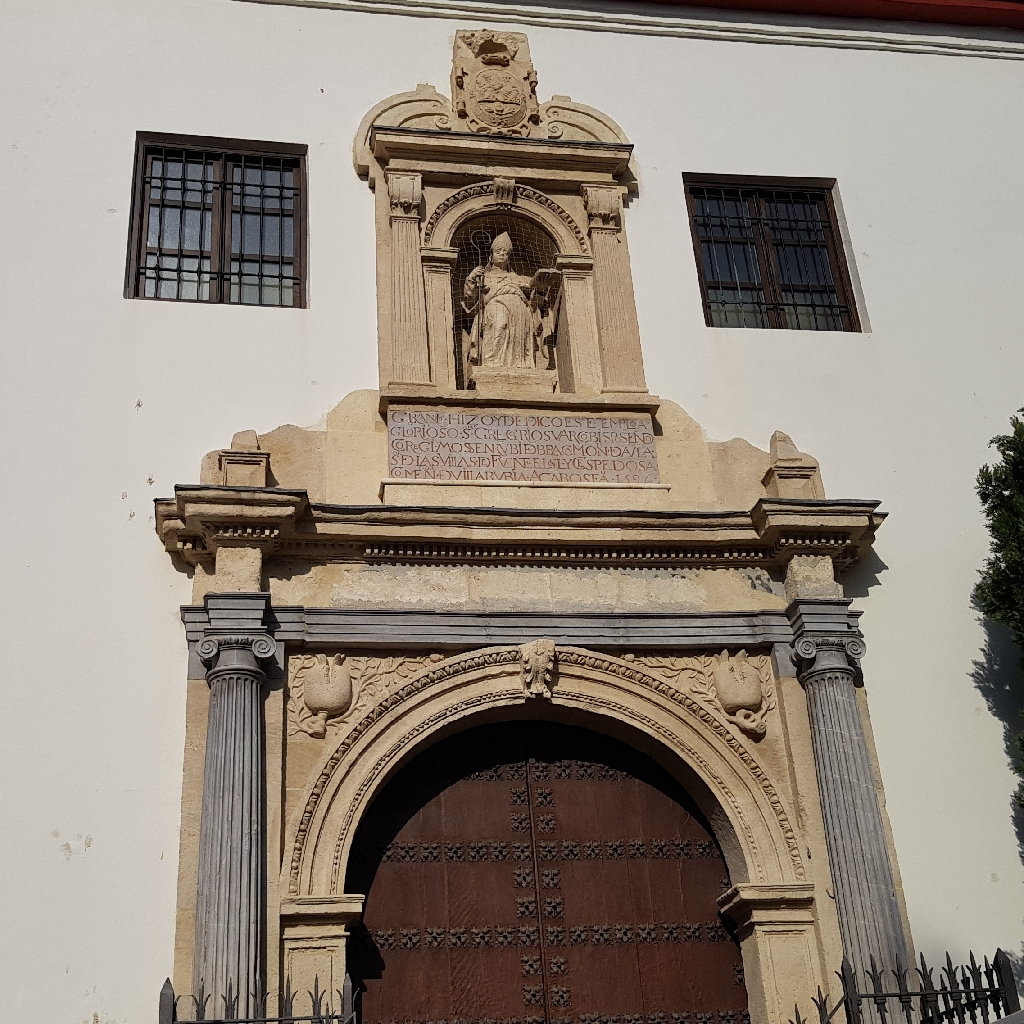arco-medio-punto: (326, 680, 781, 956), (443, 200, 578, 287)
fronton-partido: (365, 86, 640, 166)
